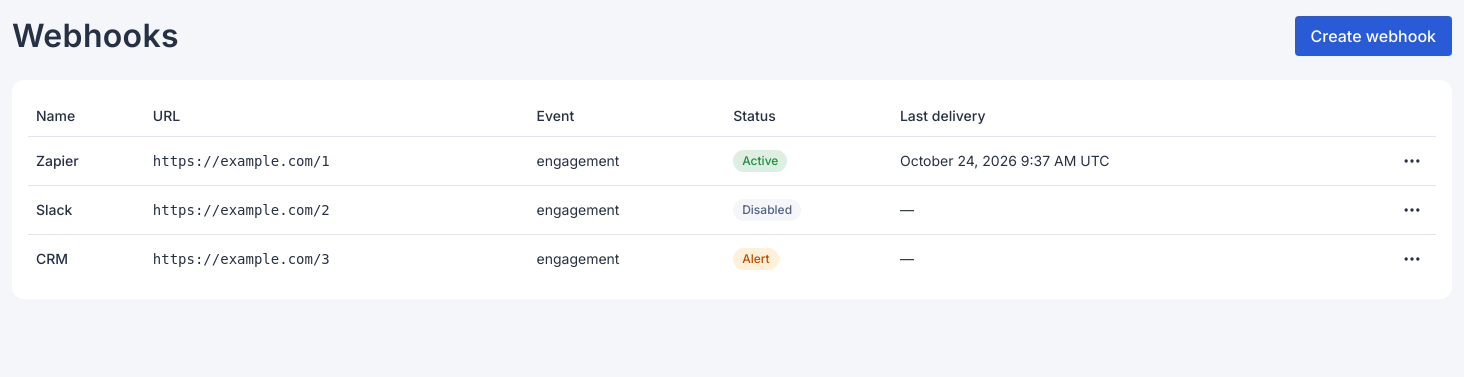
Test: WebhooksPage › toggles one deliveries panel at a time when a row is clicked
The image size is (1464, 377).
Click the text "Zapier": (57, 160) [28,136,145,185]
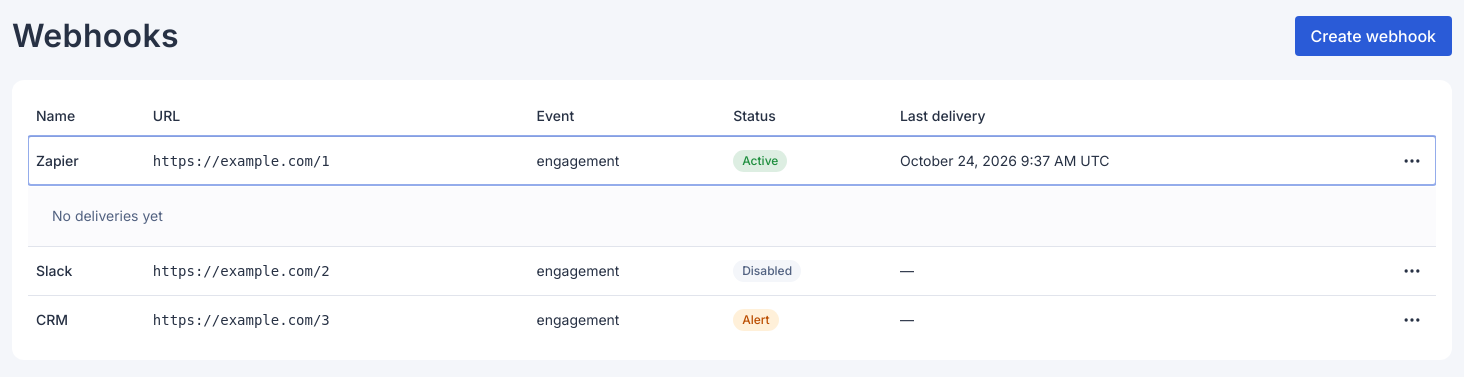
Now the text "No deliveries yet" is shown, box [52,206,163,224]
Click the text "Slack": (54, 270) [28,246,145,295]
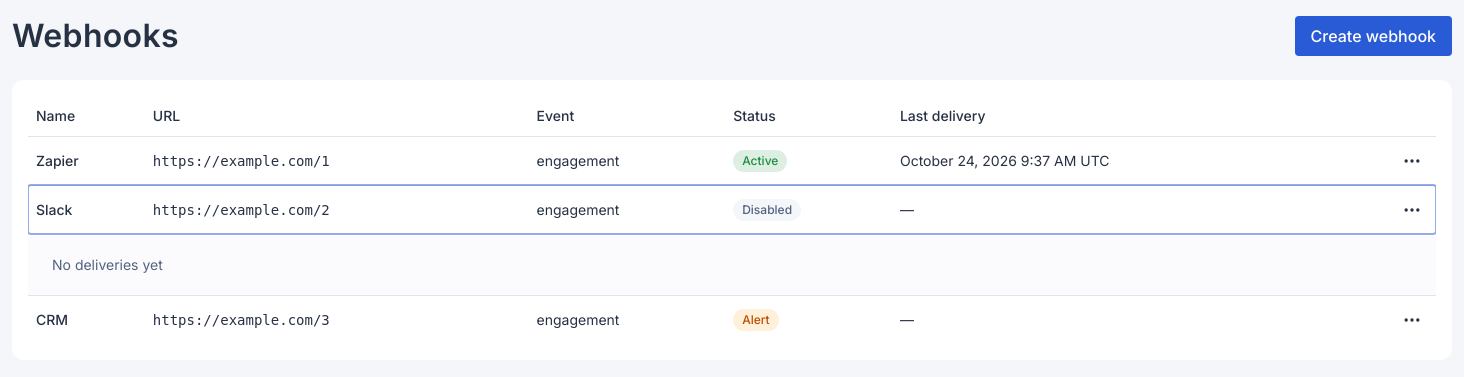
Now the text "No deliveries yet" is shown once, box [52,256,163,272]
Click the text "Slack": (54, 209) [28,185,145,234]
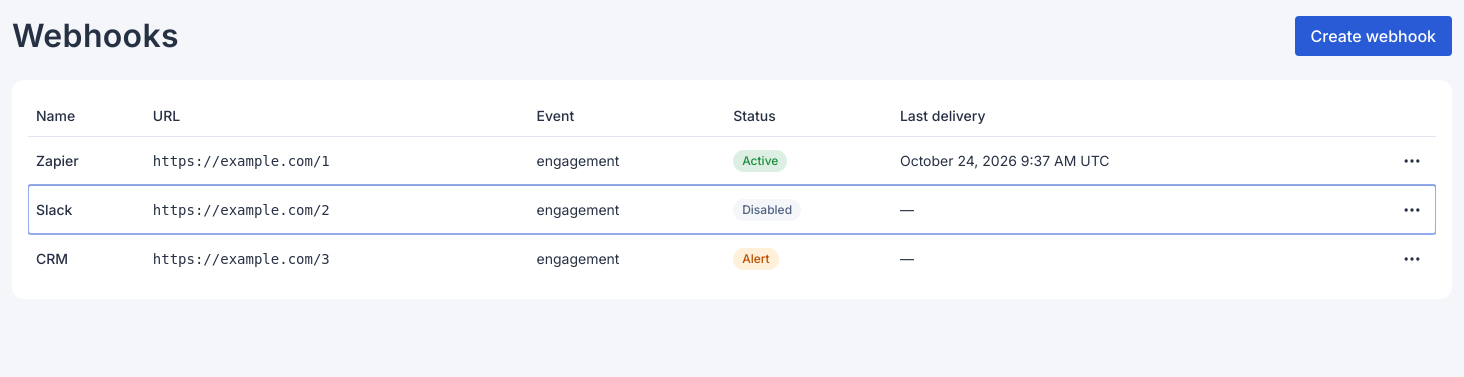
Now the text "No deliveries yet" is gone
